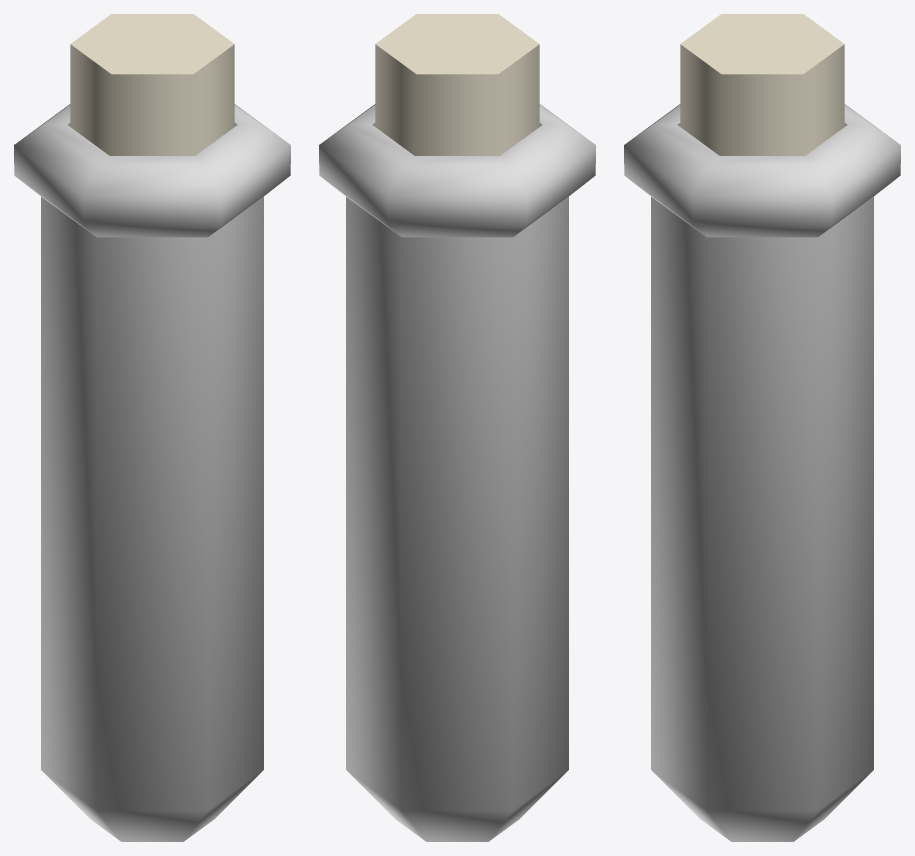
File: Vial_1.fbx
3 renders of one model, left to right at view 1: azimuth 30°, elevation 25°; view 2: azimuth 150°, elevation 25°; view 3: azimuth 270°, elevation 25°, orthographic.
Visible parts, largest first — view 1: ManaTube; view 2: ManaTube; view 3: ManaTube.
Part boxes in pixels (x1=…): ManaTube: x1=14, y1=14, x2=290, y2=841; ManaTube: x1=319, y1=14, x2=595, y2=841; ManaTube: x1=624, y1=14, x2=900, y2=841.
Bounding box in the file's own units: 6.32 × 22.55 × 7.3.
